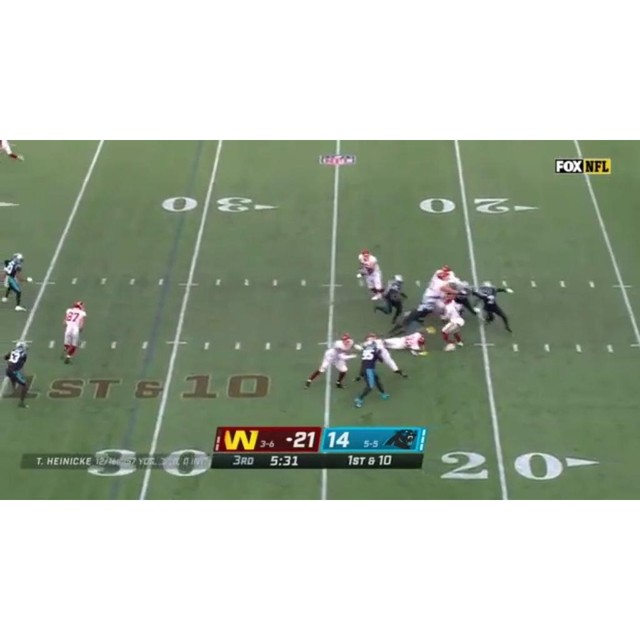american-football-player: (305, 333, 360, 392), (352, 338, 389, 407), (472, 280, 513, 334), (0, 342, 32, 409), (366, 331, 410, 379), (62, 301, 87, 364), (380, 274, 409, 328), (355, 247, 384, 301), (438, 297, 466, 352), (1, 253, 27, 311), (383, 332, 428, 357)
